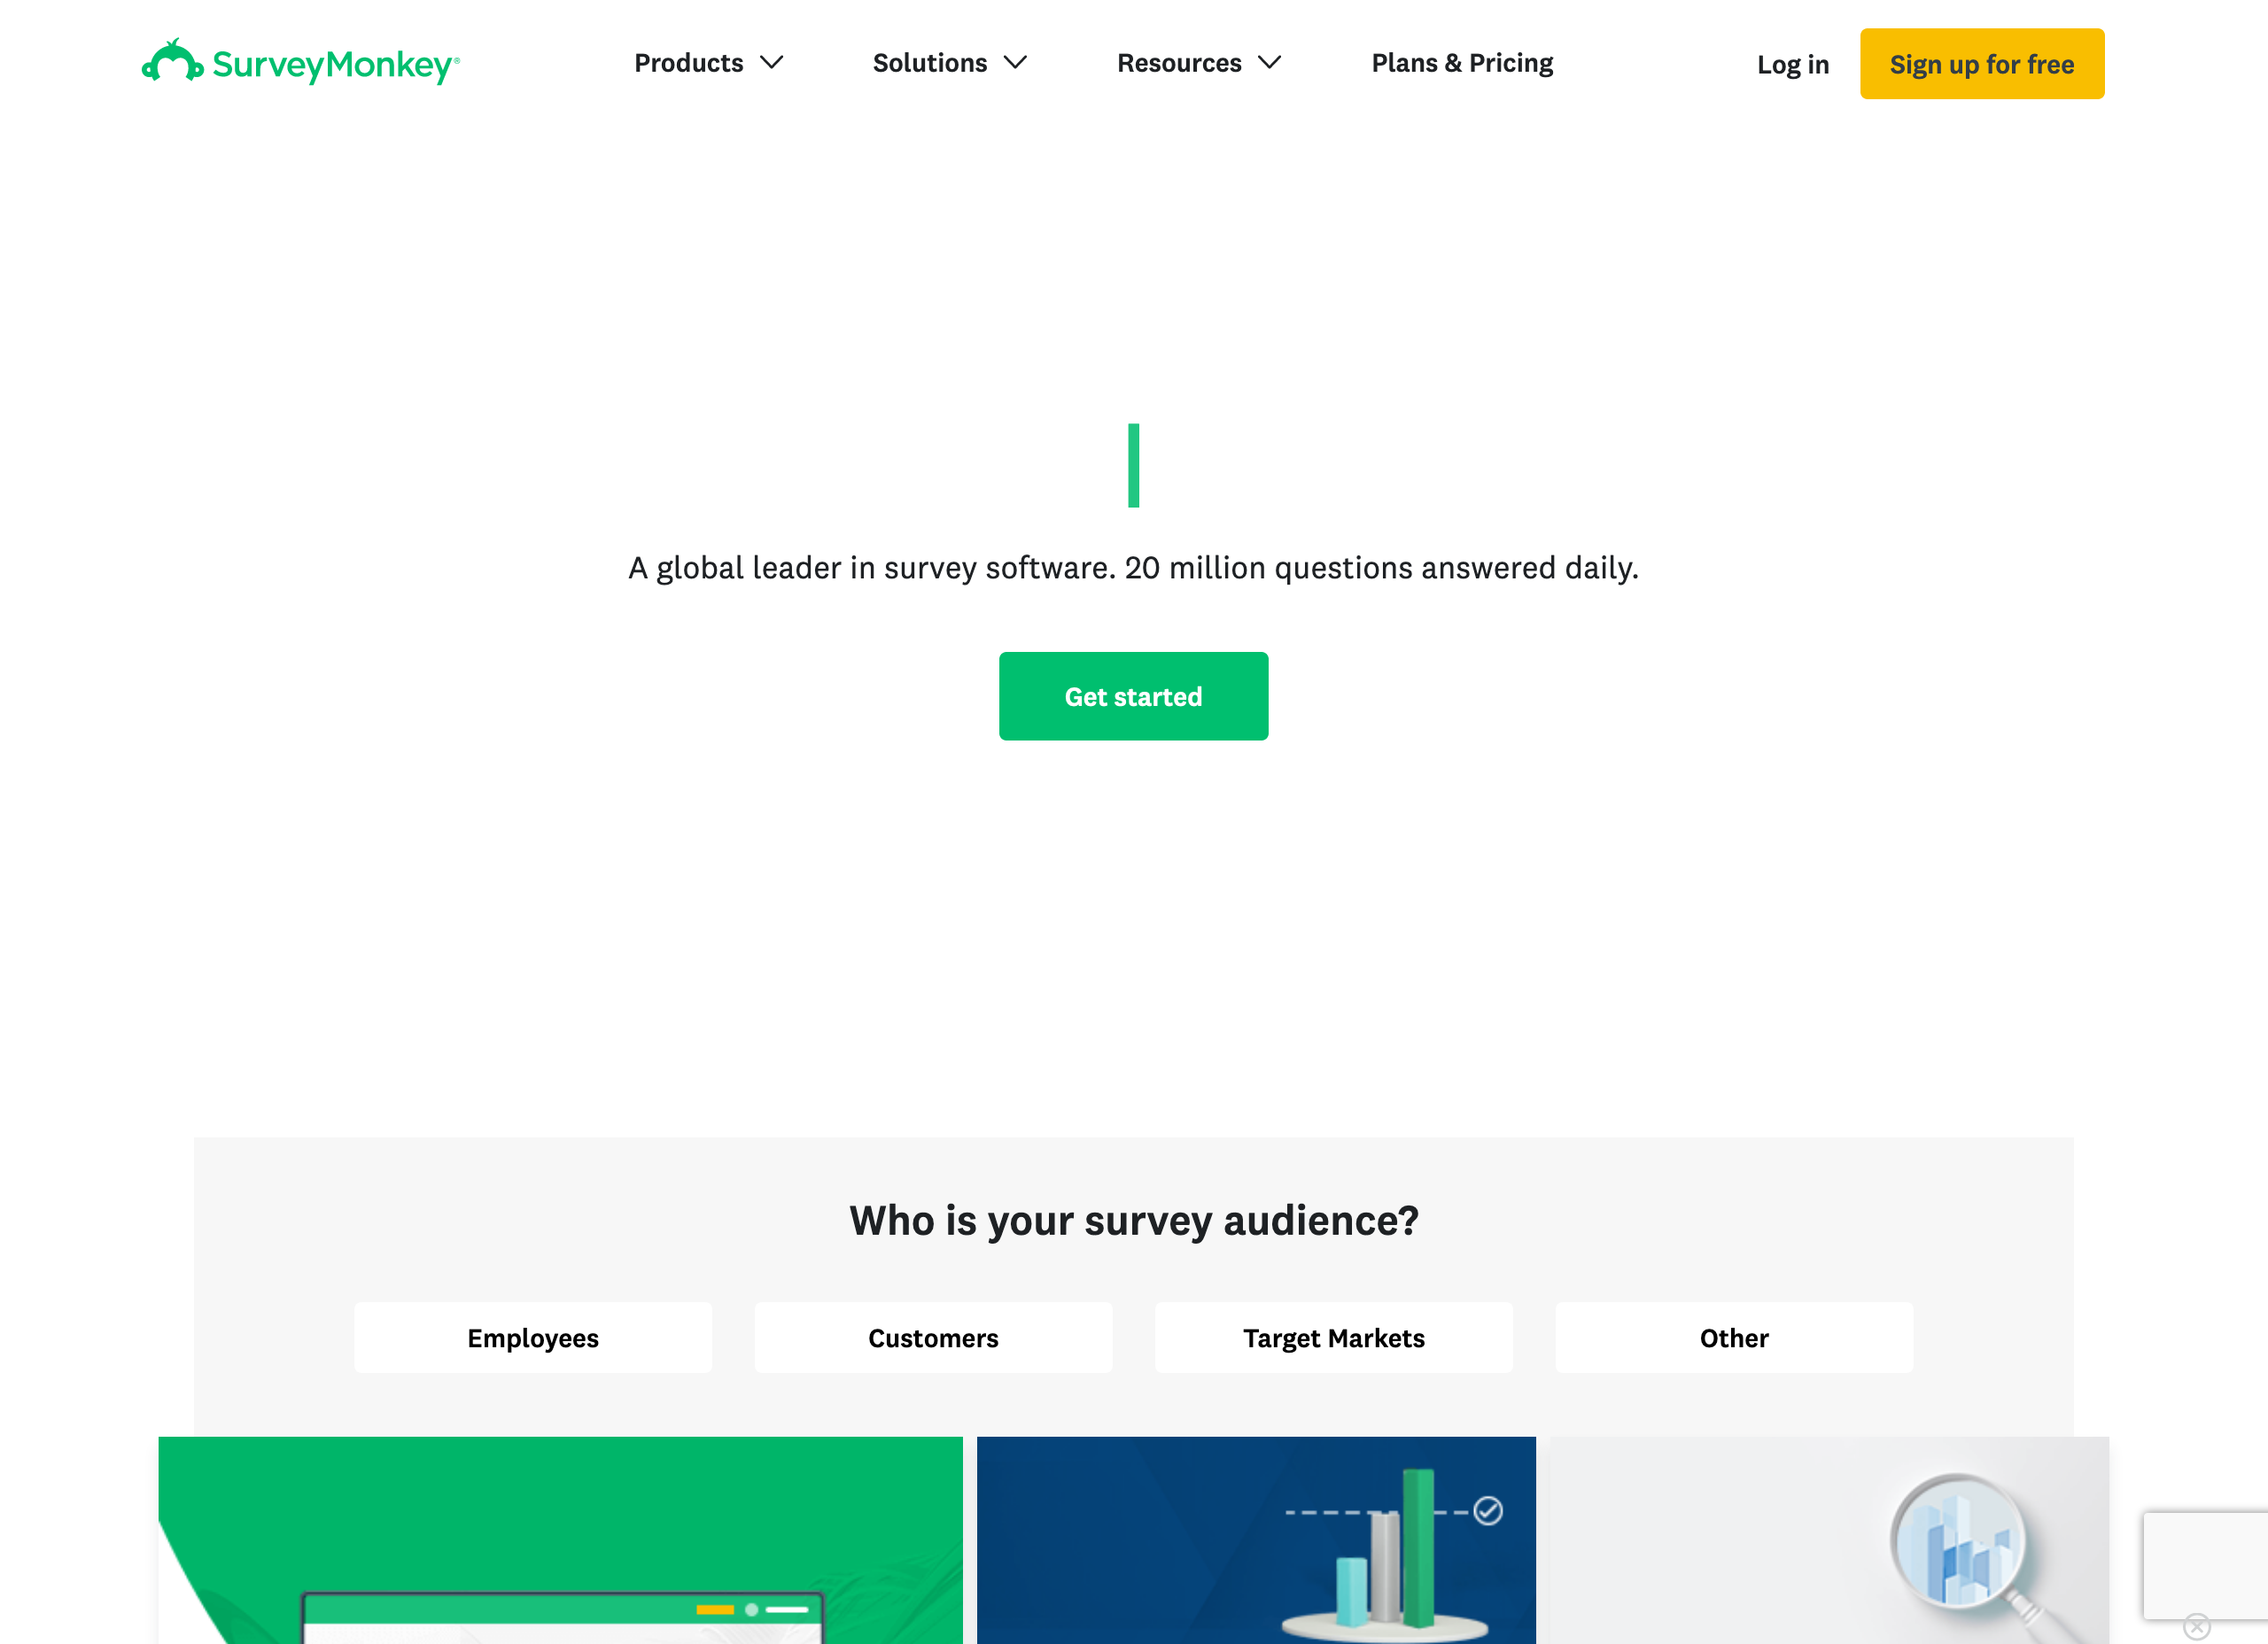Login: (1749, 37, 1831, 83)
